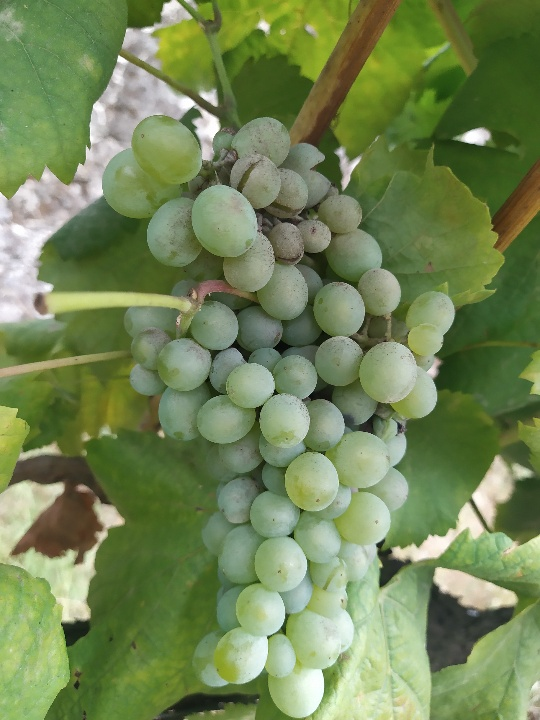grape: (98, 112, 459, 718)
